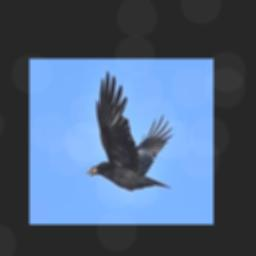Crow: (87, 71, 171, 190)
